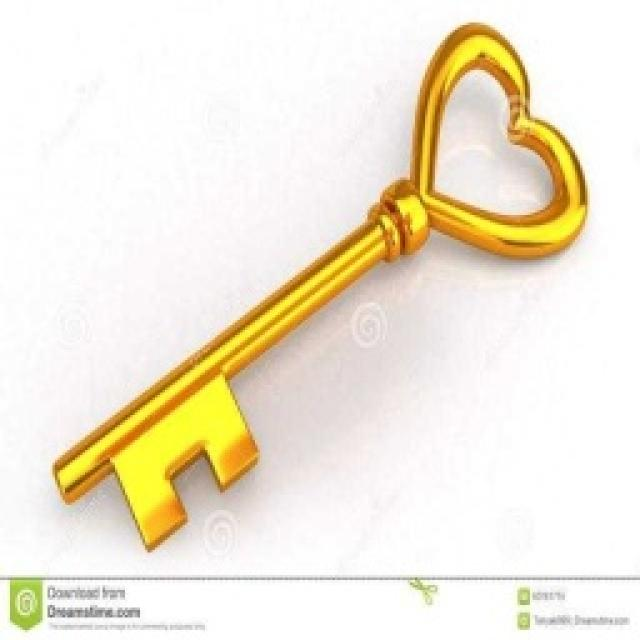anahtar: (51, 14, 590, 555)
